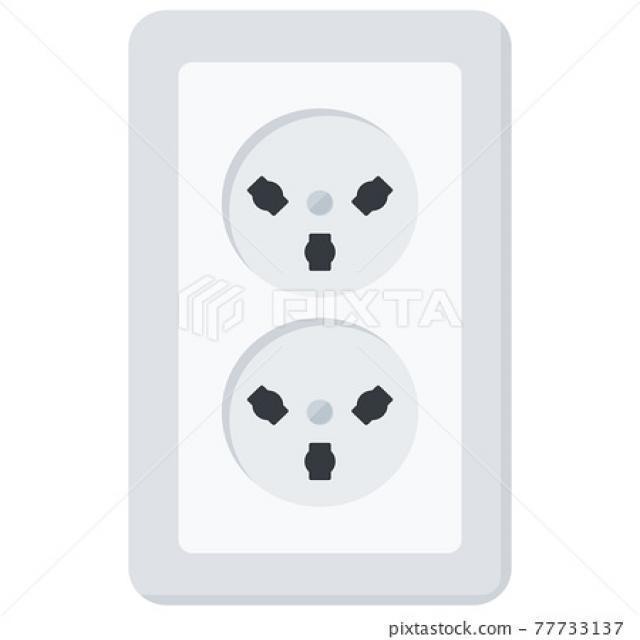typeb: (110, 5, 552, 622)
